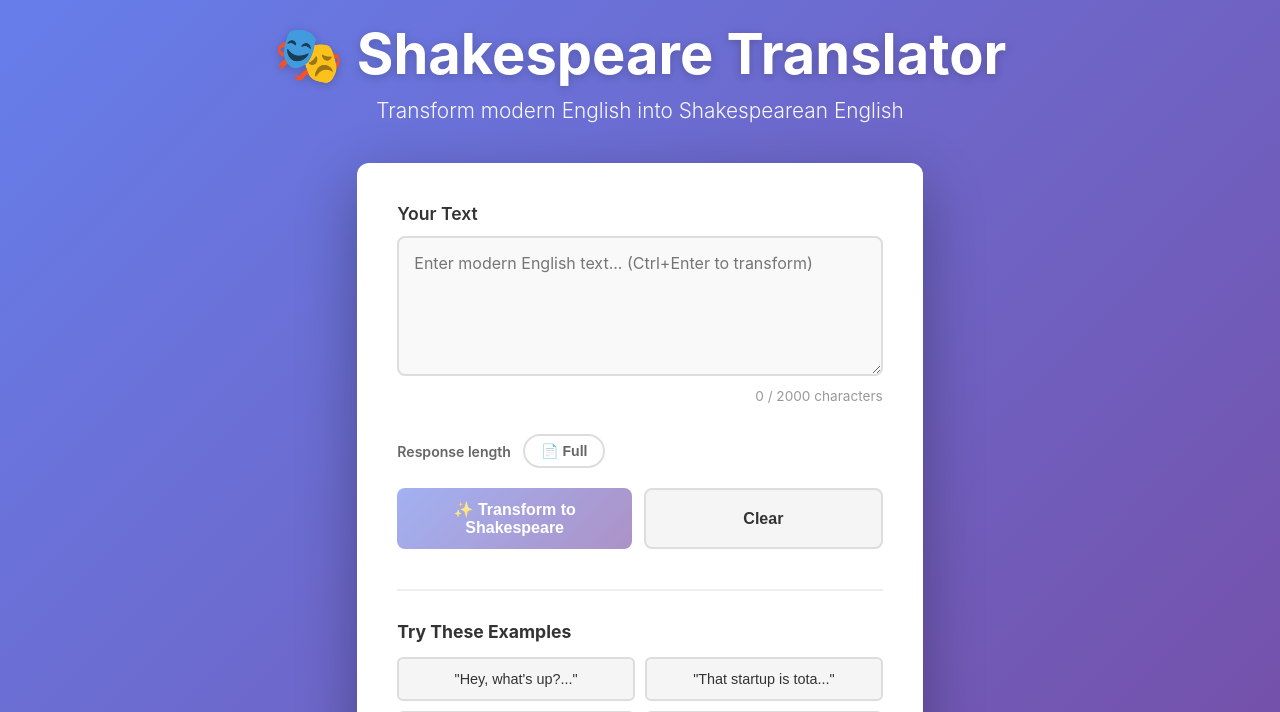
Scenario: clear button resets the input field
This screenshot has width=1280, height=712.
Type "test input" into the text box with placeholder "Enter modern English text... (Ctrl+Enter to transform)" at (640, 306), box [397, 236, 883, 376]
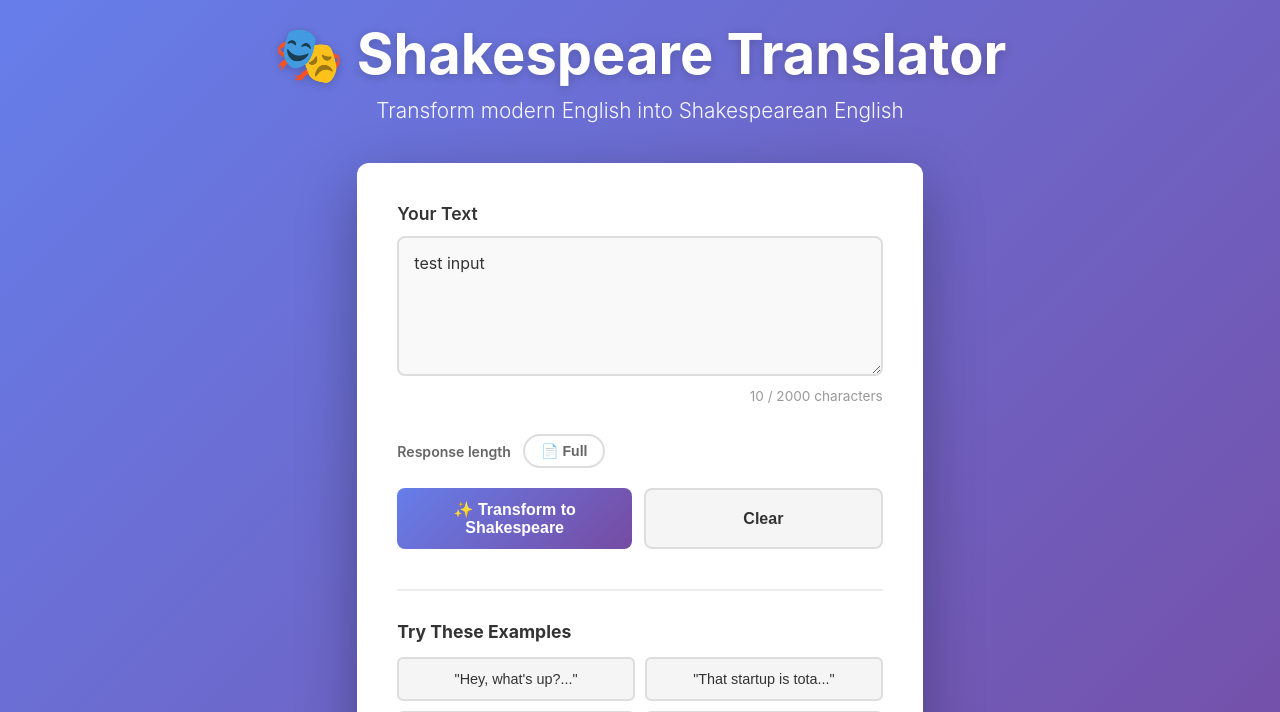
Click the button "Clear" at (763, 518), box [644, 488, 883, 549]
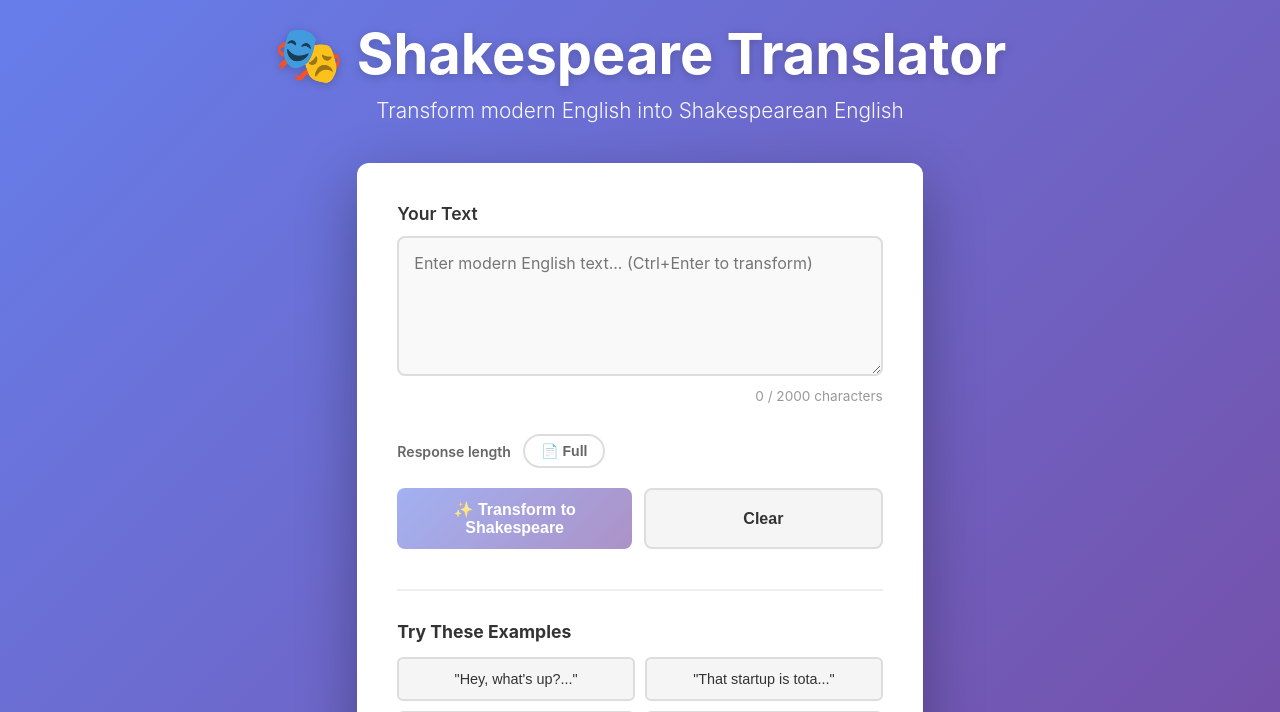
Result: the text box with placeholder "Enter modern English text... (Ctrl+Enter to transform)" is empty at [397, 236, 883, 376]
